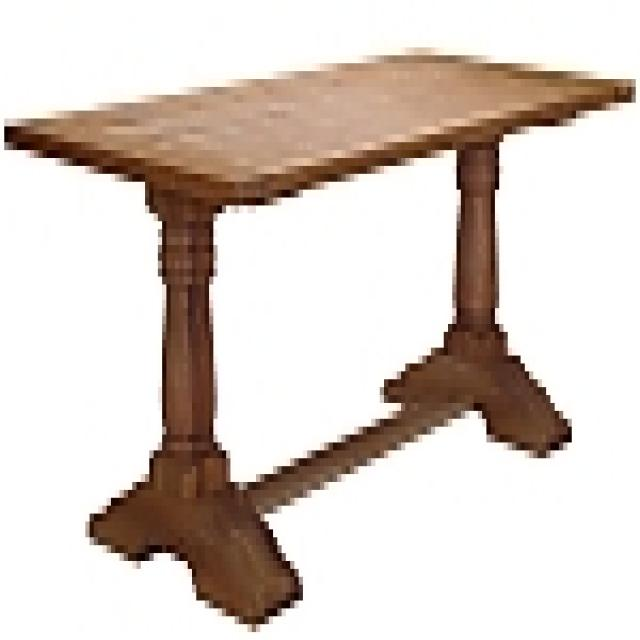table: (2, 45, 632, 634)
